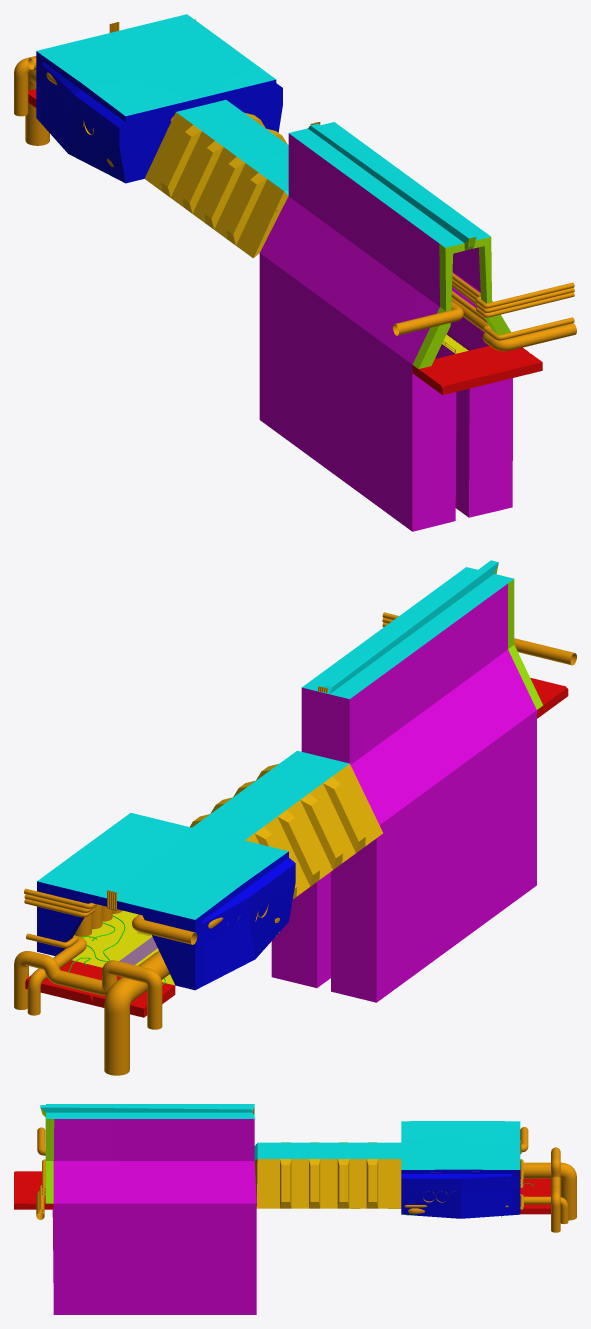
Rendered from Tutorial_Mesh.fbx.
3 renders of one model, top to bottom at view 1: azimuth 30°, elevation 25°; view 2: azimuth 150°, elevation 25°; view 3: azimuth 270°, elevation 25°, orthographic. The views are drawn at different scales.
Parts seen in each view (by area): view 1: Tutorial_Walls3, Tutorial_Roof, Tutorial_Walls1, Tutorial_Walls2, Tutorial_Cliffs, Tutorial_StationEntrance, Tutorial_Pipe_1, Tutorial_Pipe_4, Tutorial_Pipe_3, Tutorial_Pipe_22, Tutorial_Pipe_2, Tutorial_Pipe_5; view 2: Tutorial_Walls3, Tutorial_Roof, Tutorial_Walls2, Tutorial_Walls1, Tutorial_StartEntrance, Tutorial_Pipe_22, Tutorial_Pipe_3, Tutorial_Cliffs, Tutorial_Floor, Tutorial_Pipe_4, Tutorial_Pipe_1, Tutorial_StationEntrance; view 3: Tutorial_Walls3, Tutorial_Roof, Tutorial_Walls2, Tutorial_Walls1, Tutorial_Cliffs, Tutorial_Pipe_3, Tutorial_Pipe_22, Tutorial_StationEntrance, Tutorial_Pipe_1, Tutorial_Pipe_4, Tutorial_StartEntrance.
Part boxes in pixels (x1,y1,x2,y2): Tutorial_Walls3: [259, 133, 512, 531]; Tutorial_Roof: [37, 14, 490, 247]; Tutorial_Walls1: [40, 56, 282, 183]; Tutorial_Walls2: [144, 112, 288, 258]; Tutorial_Cliffs: [28, 89, 542, 394]; Tutorial_StationEntrance: [412, 237, 510, 368]; Tutorial_Pipe_1: [451, 297, 576, 351]; Tutorial_Pipe_4: [28, 57, 463, 335]; Tutorial_Pipe_3: [25, 70, 435, 358]; Tutorial_Pipe_22: [14, 56, 36, 116]; Tutorial_Pipe_2: [451, 291, 574, 340]; Tutorial_Pipe_5: [194, 19, 574, 308]; Tutorial_Walls3: [271, 583, 536, 1002]; Tutorial_Roof: [37, 560, 513, 919]; Tutorial_Walls2: [190, 764, 382, 899]; Tutorial_Walls1: [201, 851, 295, 985]; Tutorial_StartEntrance: [37, 881, 204, 990]; Tutorial_Pipe_22: [14, 951, 162, 1029]; Tutorial_Pipe_3: [104, 917, 279, 1075]; Tutorial_Cliffs: [25, 678, 568, 1017]; Tutorial_Floor: [72, 910, 174, 985]; Tutorial_Pipe_4: [132, 638, 576, 944]; Tutorial_Pipe_1: [27, 935, 86, 1015]; Tutorial_StationEntrance: [494, 563, 543, 709]; Tutorial_Walls3: [52, 1119, 256, 1314]; Tutorial_Roof: [40, 1104, 520, 1169]; Tutorial_Walls2: [254, 1142, 401, 1208]; Tutorial_Walls1: [401, 1169, 511, 1218]; Tutorial_Cliffs: [14, 1171, 550, 1214]; Tutorial_Pipe_3: [523, 1162, 576, 1220]; Tutorial_Pipe_22: [551, 1147, 560, 1232]; Tutorial_StationEntrance: [40, 1108, 54, 1203]; Tutorial_Pipe_1: [36, 1190, 568, 1224]; Tutorial_Pipe_4: [37, 1127, 528, 1155]; Tutorial_StartEntrance: [511, 1170, 520, 1215].
Size of the model in its own units: 5080 by 7333 by 19457.
